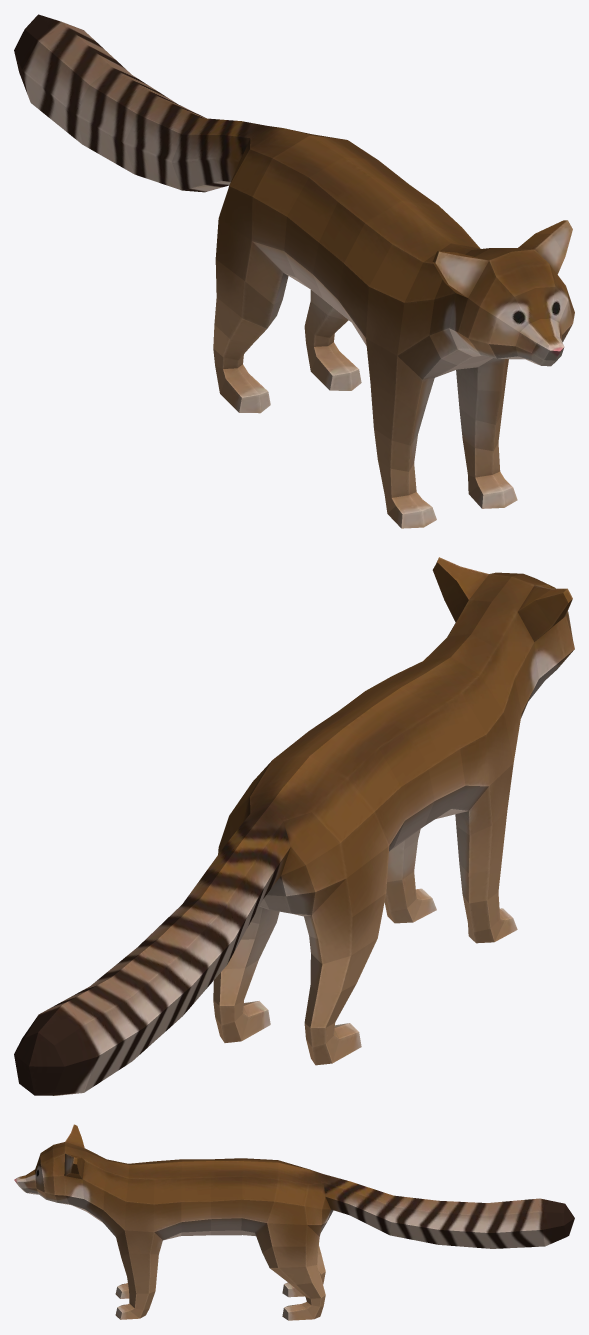
File: ejX8KpBw2-V.glb
3 renders of one model, top to bottom at view 1: azimuth 30°, elevation 25°; view 2: azimuth 150°, elevation 25°; view 3: azimuth 270°, elevation 25°, orthographic. The views are drawn at different scales.
Parts seen in each view (by area): view 1: RingtailedCat_mesh; view 2: RingtailedCat_mesh; view 3: RingtailedCat_mesh.
Boxes of the visible parts, bbox=[...] form: RingtailedCat_mesh: bbox=[14, 14, 574, 528]; RingtailedCat_mesh: bbox=[14, 557, 574, 1095]; RingtailedCat_mesh: bbox=[14, 1124, 574, 1320].
Size of the model in its own units: 0.4752 by 1 by 3.1.
1 material, 1 textured.
